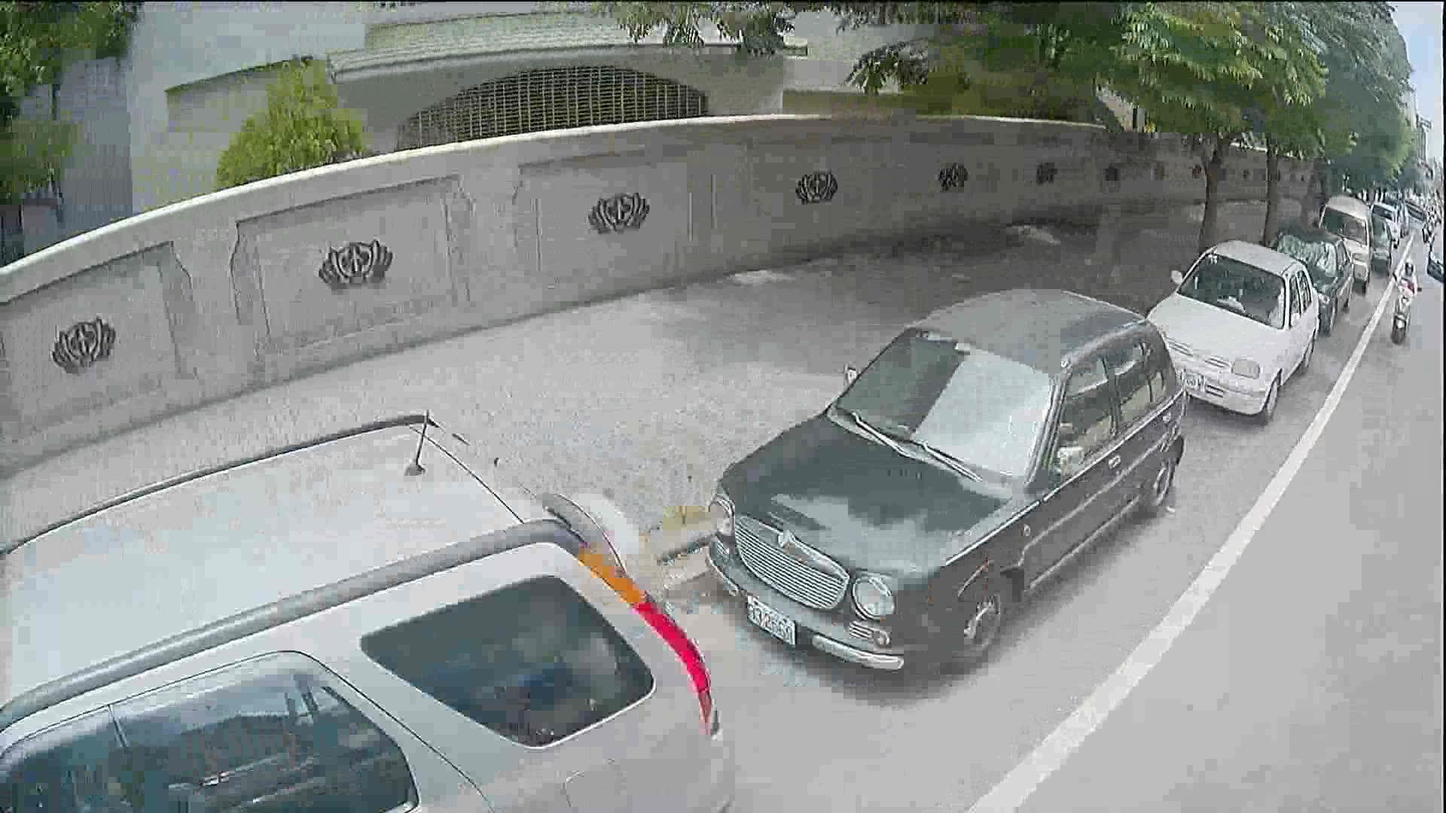person: (1396, 260, 1414, 288)
